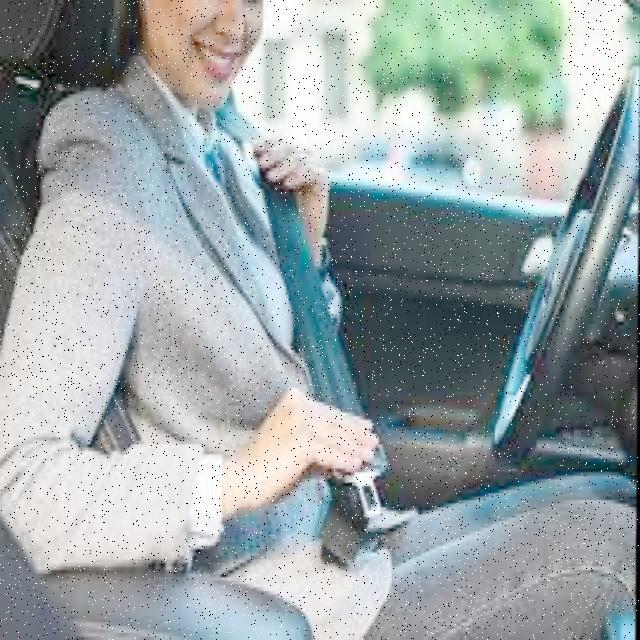seatbelt: (173, 70, 396, 577)
